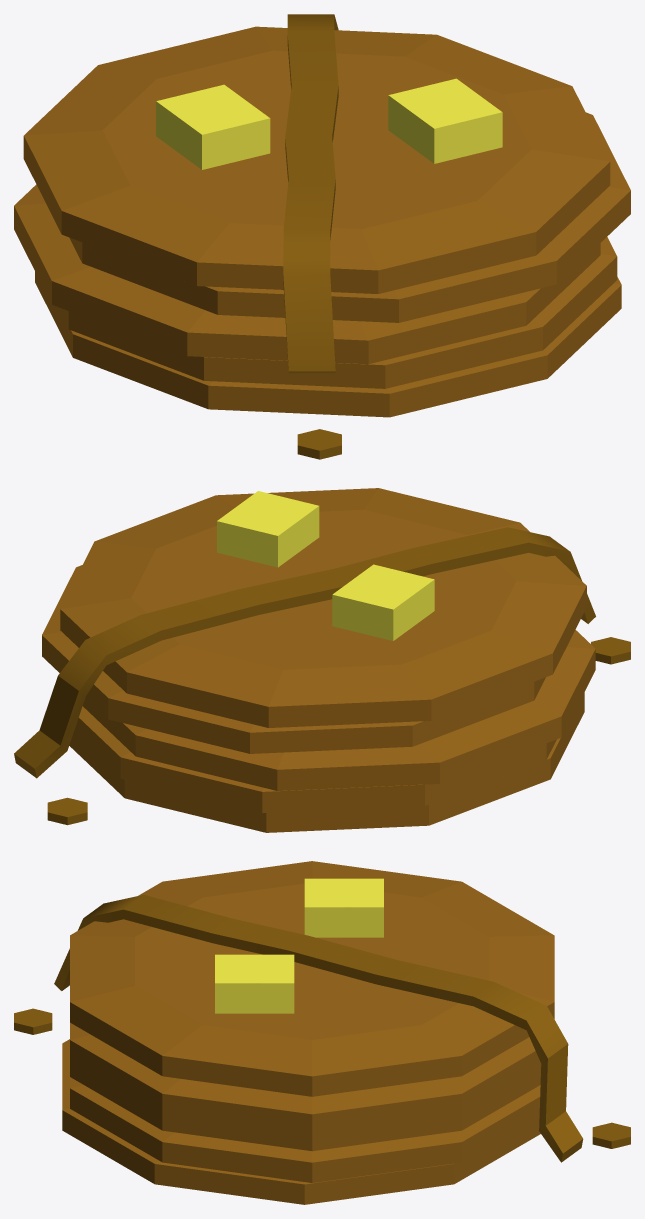
3 renders of one model, top to bottom at view 1: azimuth 30°, elevation 25°; view 2: azimuth 150°, elevation 25°; view 3: azimuth 270°, elevation 25°, orthographic. The views are drawn at different scales.
Parts seen in each view (by area): view 1: pancakes; view 2: pancakes; view 3: pancakes.
Part boxes in pixels (box(x1,y1,x2,y2)): pancakes: box(14, 14, 630, 459); pancakes: box(14, 488, 630, 832); pancakes: box(14, 861, 630, 1204).
Bounding box in the file's own units: 0.0196 × 0.00661 × 0.0224.
1 material, 1 textured.
